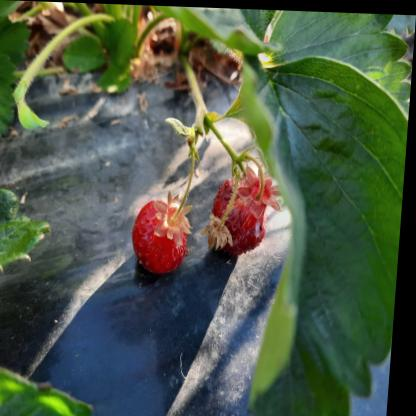ripe: (210, 182, 276, 253), (136, 201, 194, 270)
